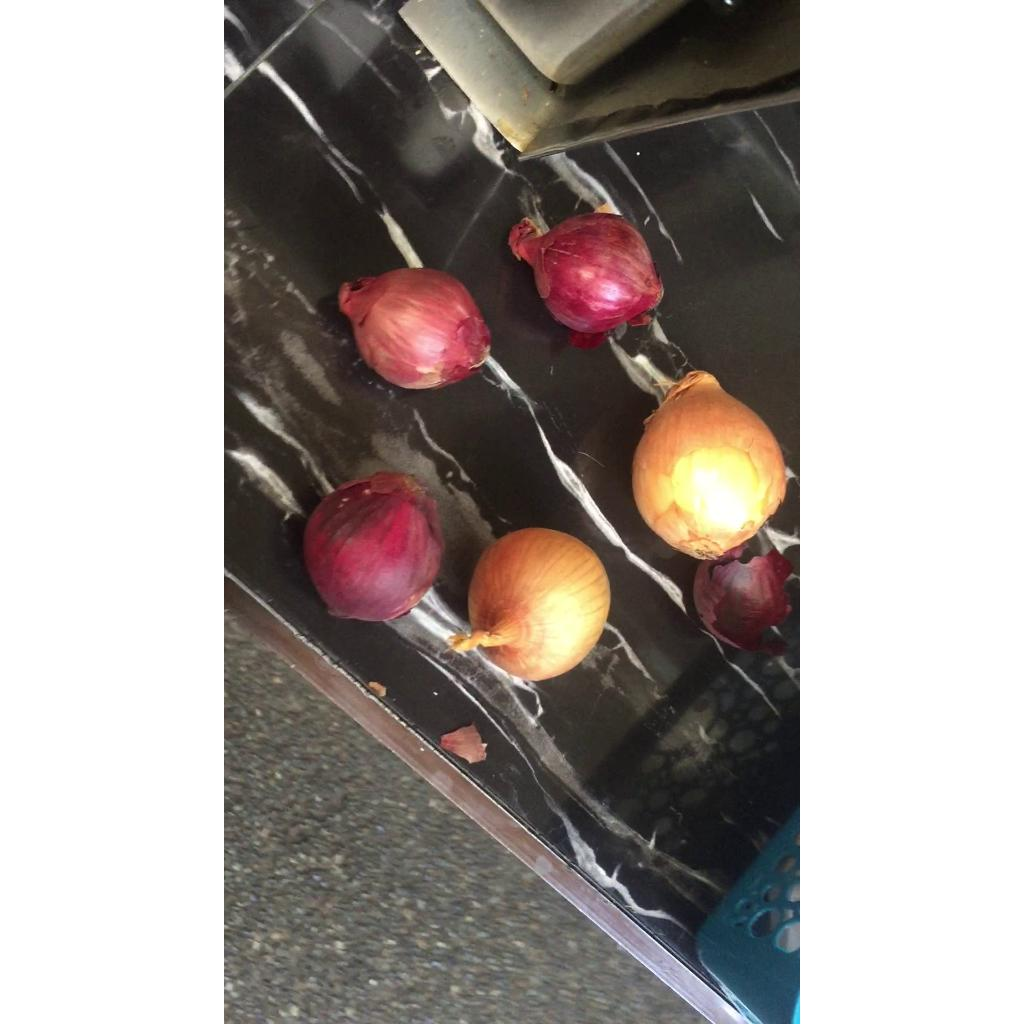Onion: (633, 371, 787, 560), (451, 529, 610, 681), (508, 206, 663, 348), (302, 473, 443, 622), (338, 267, 490, 389)
